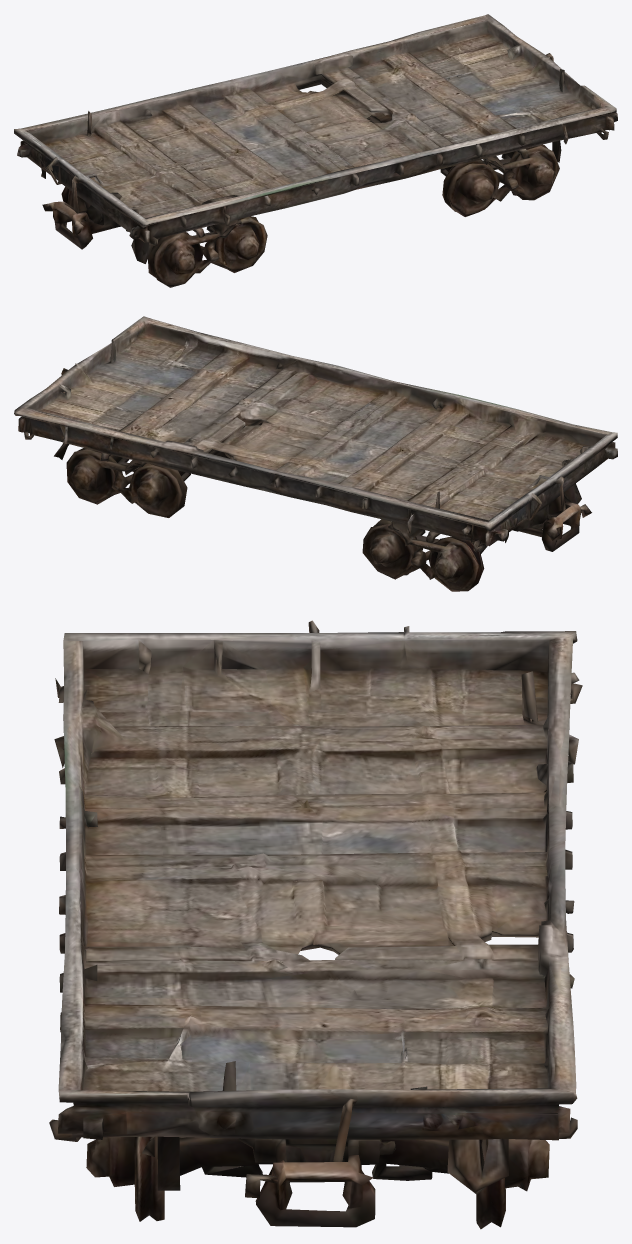
Rendered from rd_flatcar.glb.
3 views of the same model, one above another, from view 1: azimuth 30°, elevation 25°; view 2: azimuth 150°, elevation 25°; view 3: azimuth 270°, elevation 25° (orthographic). The views are drawn at different scales.
Parts seen in each view (by area): view 1: tripo_node_614d2f15-9d23-4126-be9d-ae4c3397f209; view 2: tripo_node_614d2f15-9d23-4126-be9d-ae4c3397f209; view 3: tripo_node_614d2f15-9d23-4126-be9d-ae4c3397f209.
Part boxes in pixels (<box>): tripo_node_614d2f15-9d23-4126-be9d-ae4c3397f209: <box>14,14,617,287</box>; tripo_node_614d2f15-9d23-4126-be9d-ae4c3397f209: <box>14,316,617,591</box>; tripo_node_614d2f15-9d23-4126-be9d-ae4c3397f209: <box>49,620,582,1229</box>.
Bounding box in the file's own units: 0.98 × 0.1894 × 0.4413.
Materials: 1 (1 with a texture image).
